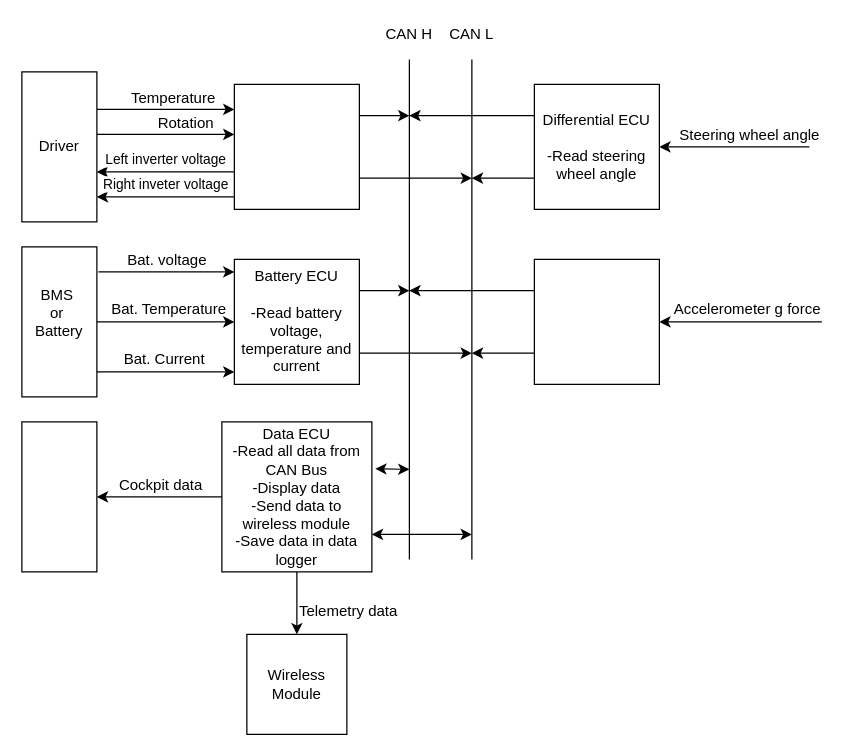
Image size: 856x756. Some labels were removed from this diagram. The shapes that lost their labels are listed below. From the top down, each one's centre as x and y in pixels, then its label:
the point at 296,146: Engine ECU -Read eng. temperature and rotation -Write engine input voltage
the point at 596,321: Accelerometer ECU -Read g force
the point at 59,496: Cockpit LED Display
